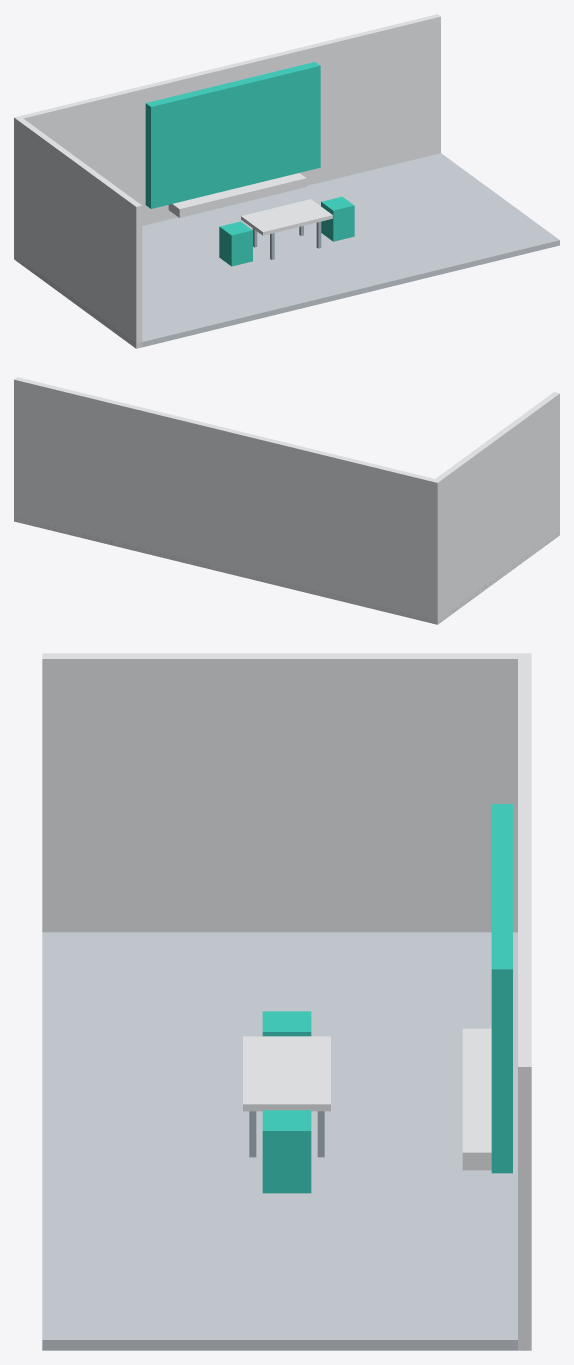
3 renders of one model, top to bottom at view 1: azimuth 30°, elevation 25°; view 2: azimuth 150°, elevation 25°; view 3: azimuth 270°, elevation 25°, orthographic. The views are drawn at different scales.
Visible parts, largest first — view 1: Exhibition Booth Concept; view 2: Exhibition Booth Concept; view 3: Exhibition Booth Concept.
Part boxes in pixels (<box>): Exhibition Booth Concept: <box>14,14,559,348</box>; Exhibition Booth Concept: <box>14,377,559,624</box>; Exhibition Booth Concept: <box>42,653,531,1350</box>.
Bounding box in the file's own units: 10 × 3.2 × 5.
